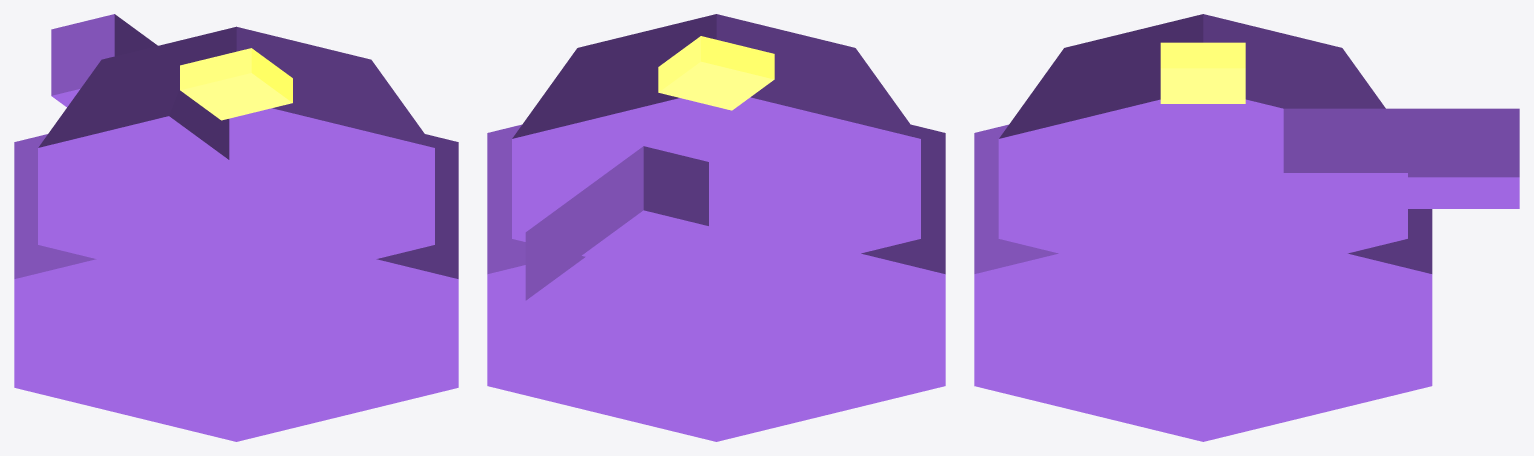
The model's file is dungeon-turret.glb.
3 renders of one model, left to right at view 1: azimuth 30°, elevation 25°; view 2: azimuth 150°, elevation 25°; view 3: azimuth 270°, elevation 25°, orthographic. The views are drawn at different scales.
Parts seen in each view (by area): view 1: dungeon-turret; view 2: dungeon-turret; view 3: dungeon-turret.
Boxes of the visible parts, left/top/right/bottom form: dungeon-turret: left=14, top=14, right=458, bottom=441; dungeon-turret: left=487, top=14, right=945, bottom=441; dungeon-turret: left=974, top=14, right=1519, bottom=441.
Bounding box in the file's own units: 1.12 × 0.63 × 1.15.
